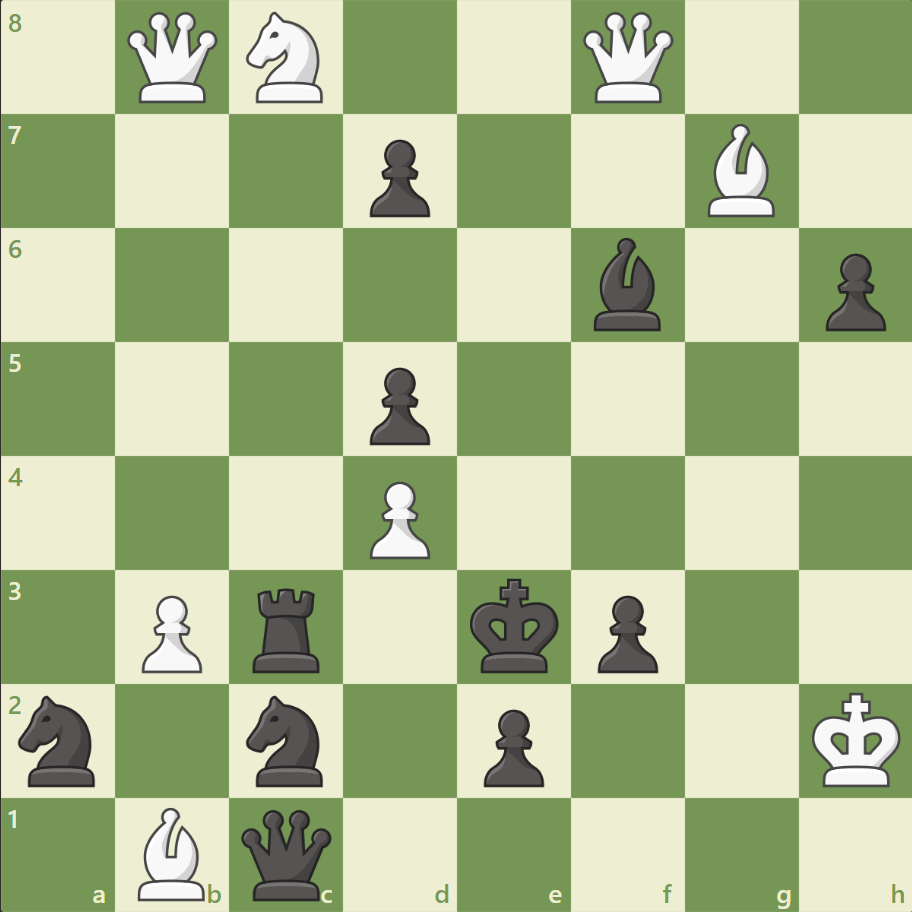B: (131, 801, 215, 904), (698, 120, 782, 222)
K: (806, 685, 906, 793)
N: (238, 7, 335, 110)
P: (133, 586, 208, 677), (361, 473, 435, 564)
Q: (124, 9, 223, 108), (578, 9, 677, 108)
b: (585, 233, 669, 336)
k: (465, 571, 565, 679)
n: (11, 688, 108, 791), (238, 688, 335, 791)
p: (474, 700, 549, 791), (361, 132, 435, 223), (815, 246, 889, 337), (361, 359, 435, 450), (588, 586, 662, 677)
q: (237, 804, 336, 903)
r: (246, 579, 329, 676)
